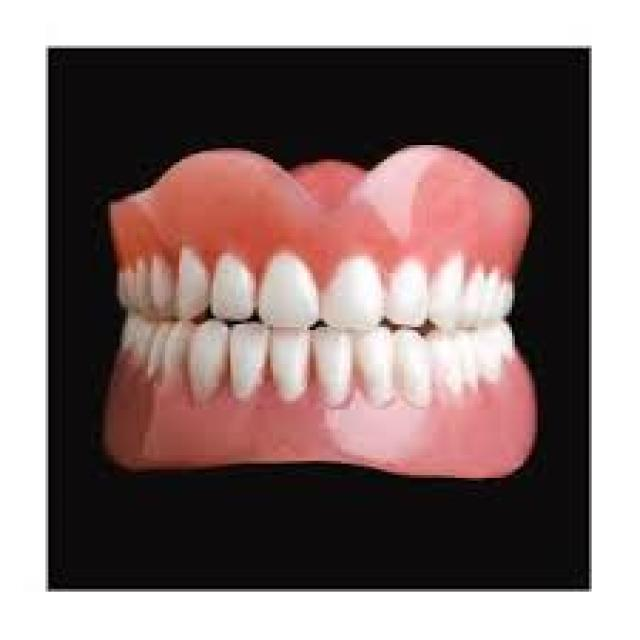tooth: (321, 256, 387, 333), (259, 259, 321, 324), (122, 316, 188, 375), (270, 327, 313, 415), (378, 259, 429, 327), (210, 256, 259, 324), (230, 324, 273, 401), (190, 324, 228, 401), (310, 333, 347, 407), (114, 265, 173, 310), (466, 268, 515, 322), (426, 262, 461, 330), (392, 336, 427, 404), (176, 250, 208, 322), (358, 330, 387, 404), (478, 327, 506, 367)
